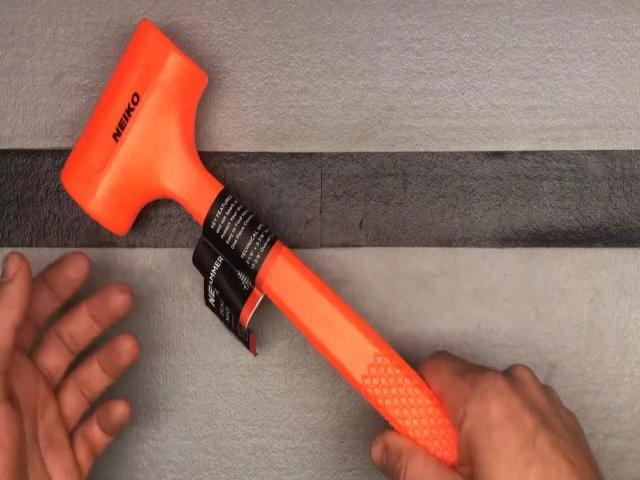hammer: (57, 21, 503, 480)
